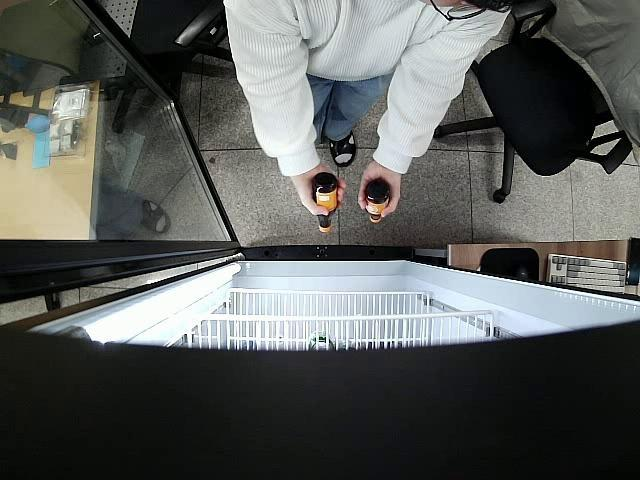17_vita500: (312, 173, 339, 236), (362, 180, 392, 224)
